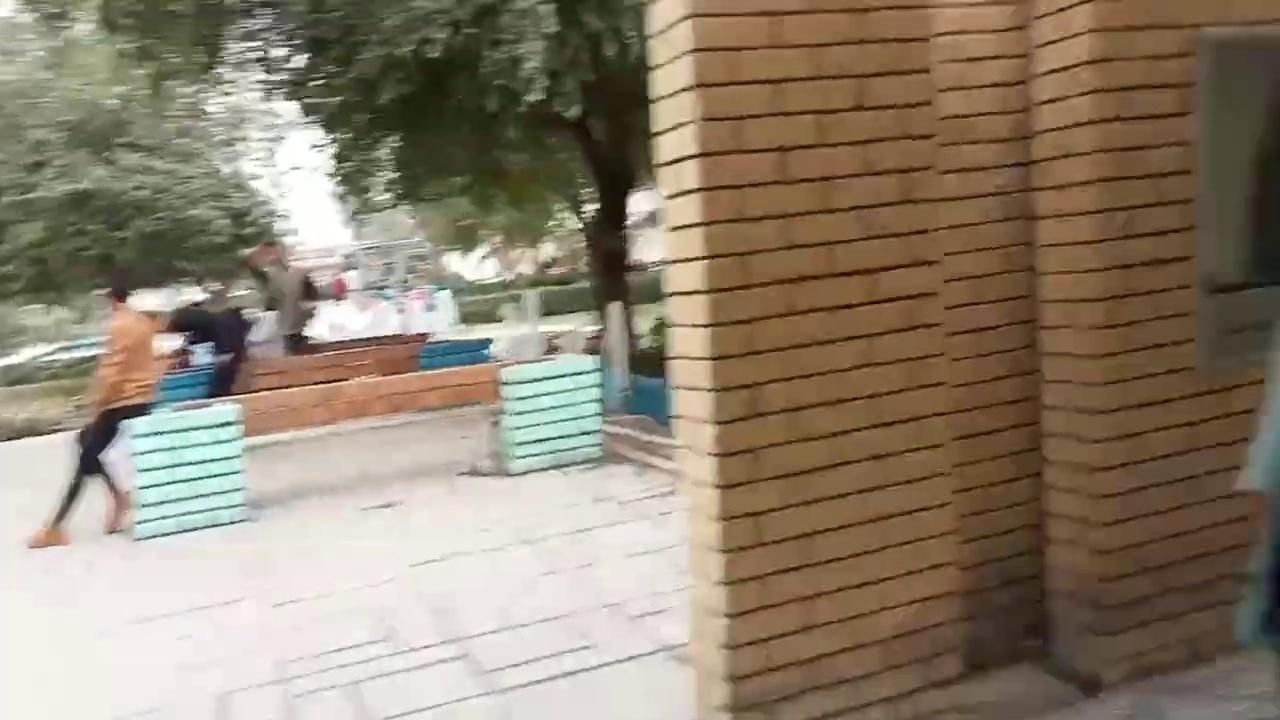fountain: (300, 283, 457, 343)
person: (25, 267, 158, 548), (163, 290, 252, 397), (245, 237, 319, 355)
tree: (276, 0, 659, 408), (0, 0, 285, 317), (515, 1, 658, 408)
